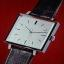watch: (4, 12, 61, 54)
